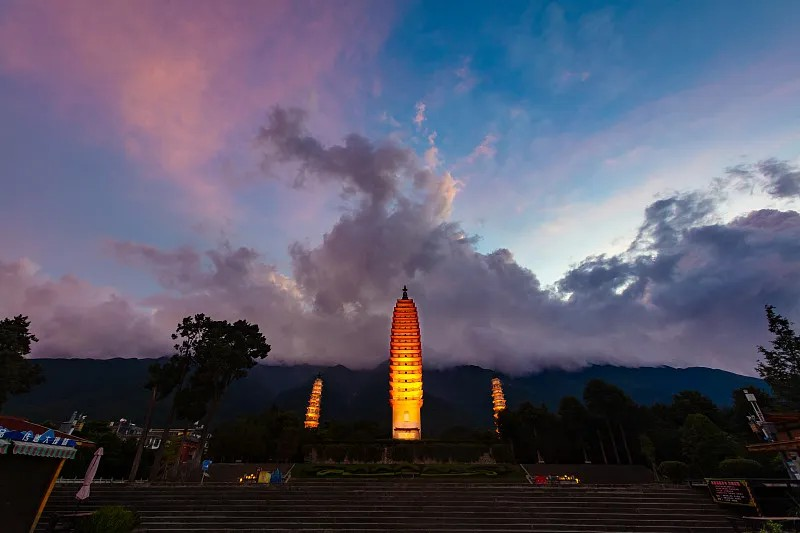ThreePagoda: (388, 286, 425, 440)
